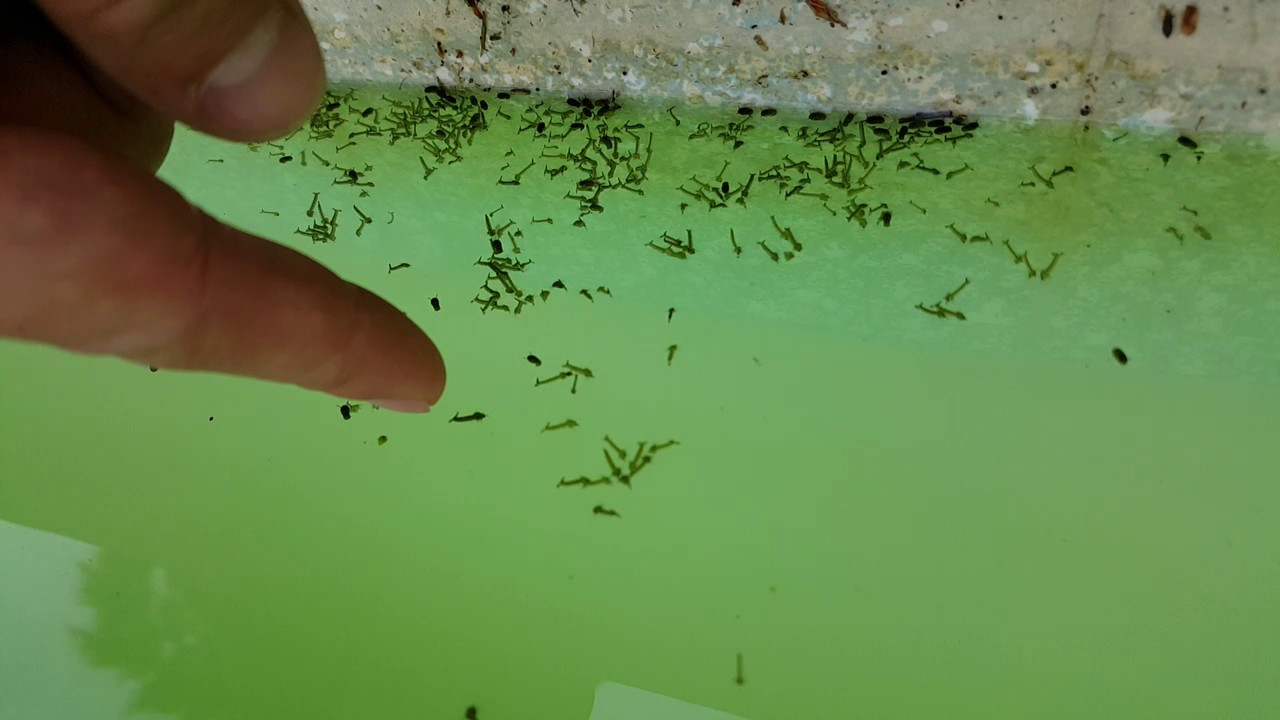Breeding_detected: (548, 433, 687, 520), (802, 115, 983, 163), (483, 216, 553, 319), (399, 89, 496, 155)
